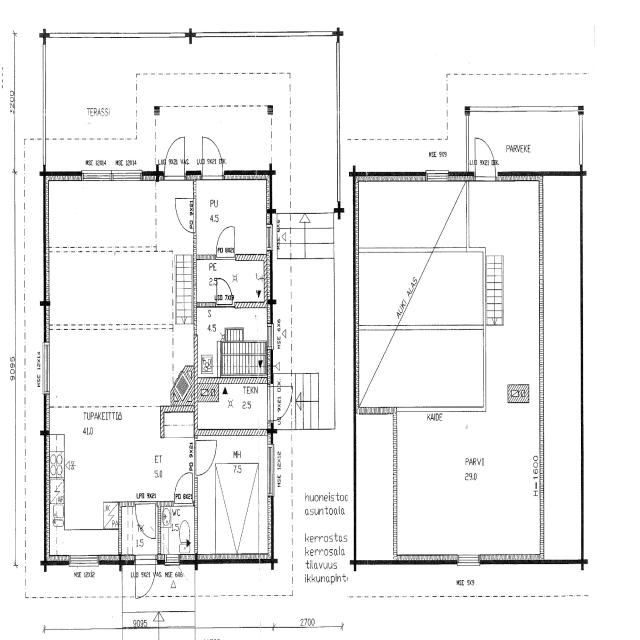door: (161, 133, 187, 177), (473, 134, 498, 179), (200, 133, 225, 178), (271, 380, 294, 424), (134, 557, 156, 600), (194, 437, 217, 477), (136, 506, 158, 544), (215, 221, 238, 256), (173, 196, 194, 234), (172, 469, 194, 504)
window: (40, 336, 53, 397), (80, 166, 114, 185), (110, 166, 144, 184), (266, 441, 276, 500), (68, 554, 100, 569), (425, 167, 451, 184), (455, 552, 481, 568), (161, 554, 181, 569)
zone: (47, 177, 192, 560), (397, 410, 545, 560), (197, 430, 269, 558), (192, 176, 270, 255), (197, 307, 271, 378), (196, 256, 269, 308), (198, 382, 268, 430), (158, 500, 196, 559), (123, 502, 157, 556)
